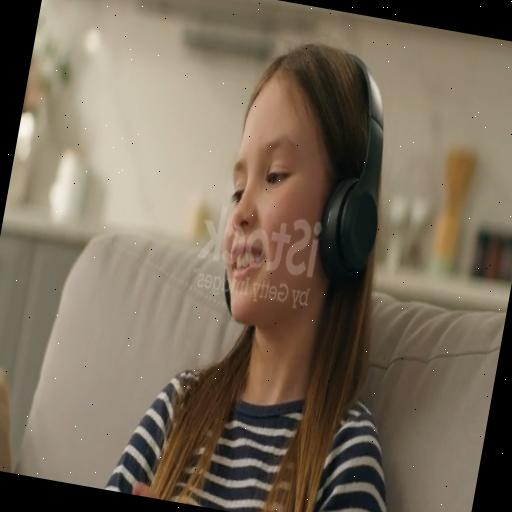earphone: (210, 21, 409, 342)
